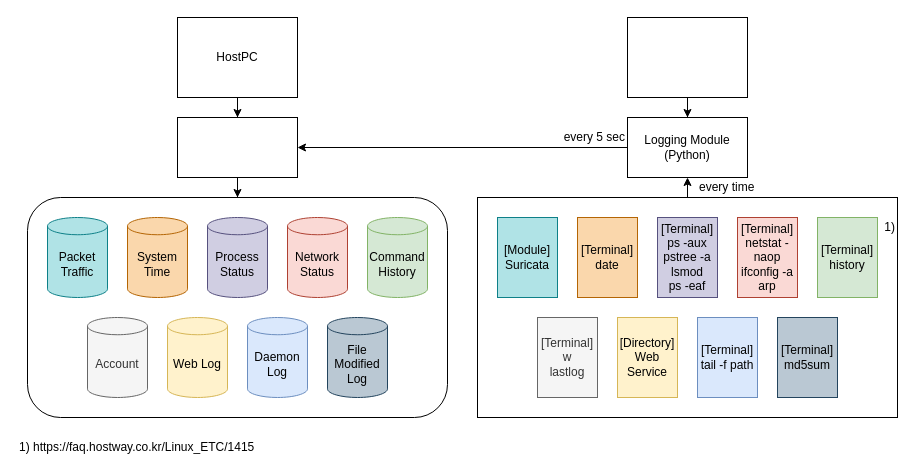
The diagram is 915 pixels wide and 475 high, and some of its shapes have lost their labels. The shapes that lost their labels are listed below. From the top down, each one's centre as x and y in pixels, then its label:
At point (687, 57): "Virtual Machine".
At point (237, 147): "API Server".
